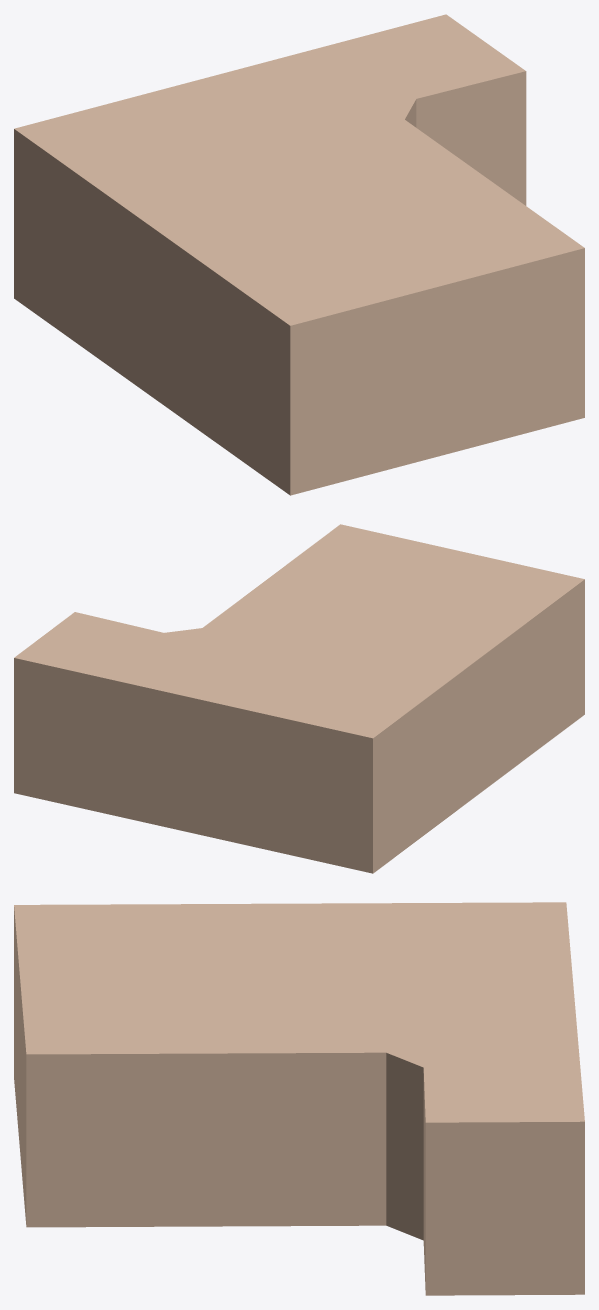
File: terminus-1900.gltf
3 views of the same model, one above another, from view 1: azimuth 30°, elevation 25°; view 2: azimuth 150°, elevation 25°; view 3: azimuth 270°, elevation 25° (orthographic). The views are drawn at different scales.
Visible parts, largest first — view 1: 1900-wing-roof-envelope; view 2: 1900-wing-roof-envelope; view 3: 1900-wing-roof-envelope.
Part boxes in pixels (x1,y1,x2,y2): 1900-wing-roof-envelope: (14, 14, 584, 495); 1900-wing-roof-envelope: (14, 524, 584, 873); 1900-wing-roof-envelope: (14, 902, 584, 1295).
Size of the model in its own units: 2.46 by 0.9 by 2.69.
